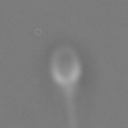normal: (51, 86, 95, 128)
